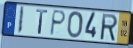4: (84, 11, 99, 42)
I: (17, 6, 25, 36)
O: (67, 11, 84, 40)
P: (49, 9, 67, 37)
R: (100, 13, 119, 43)
T: (35, 8, 49, 36)
